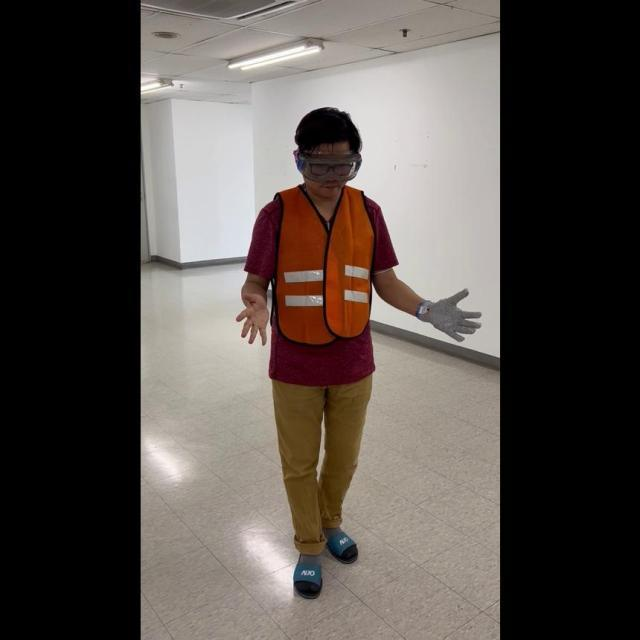bare_hand: (234, 284, 271, 346)
gloved_hand: (415, 282, 481, 340)
